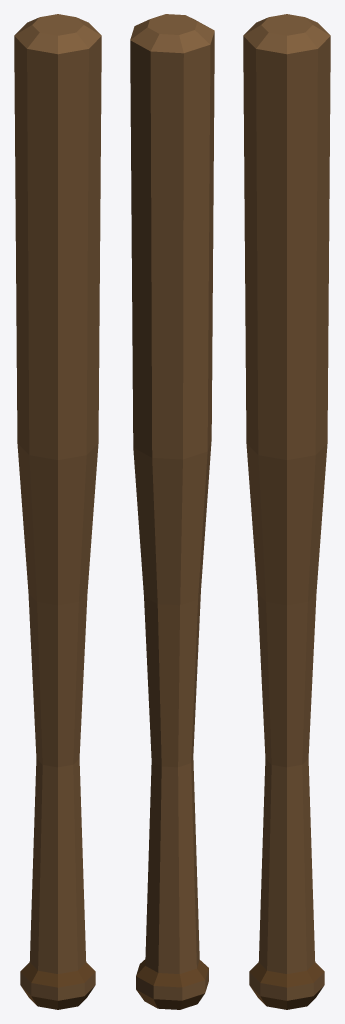
File: baseballbat_1.fbx
3 views of the same model, side by side, from view 1: azimuth 90°, elevation 25°; view 2: azimuth 150°, elevation 25°; view 3: azimuth 270°, elevation 25° (orthographic).
Visible parts, largest first — view 1: baseballbat_1; view 2: baseballbat_1; view 3: baseballbat_1.
Boxes of the visible parts, x1,y1,x2,y2 form: baseballbat_1: (14,14,101,1009); baseballbat_1: (130,14,214,1009); baseballbat_1: (243,14,330,1009).
Size of the model in its own units: 12.83 by 157 by 12.83.
1 material, 1 textured.
